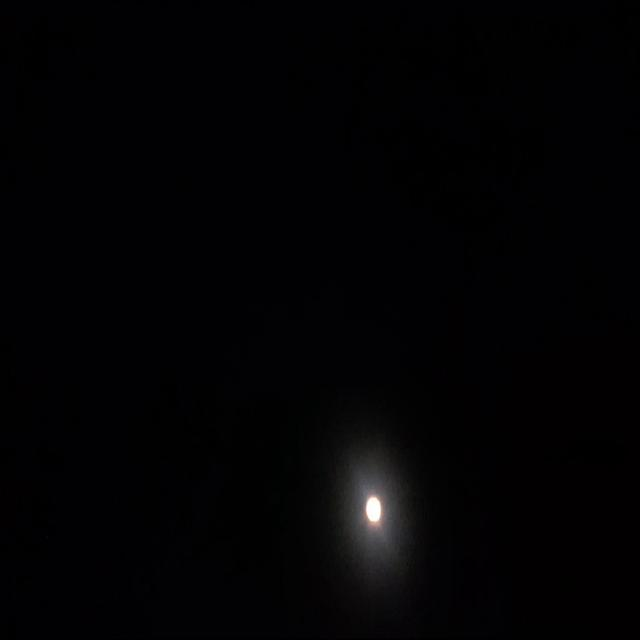moon: (359, 489, 382, 522)
